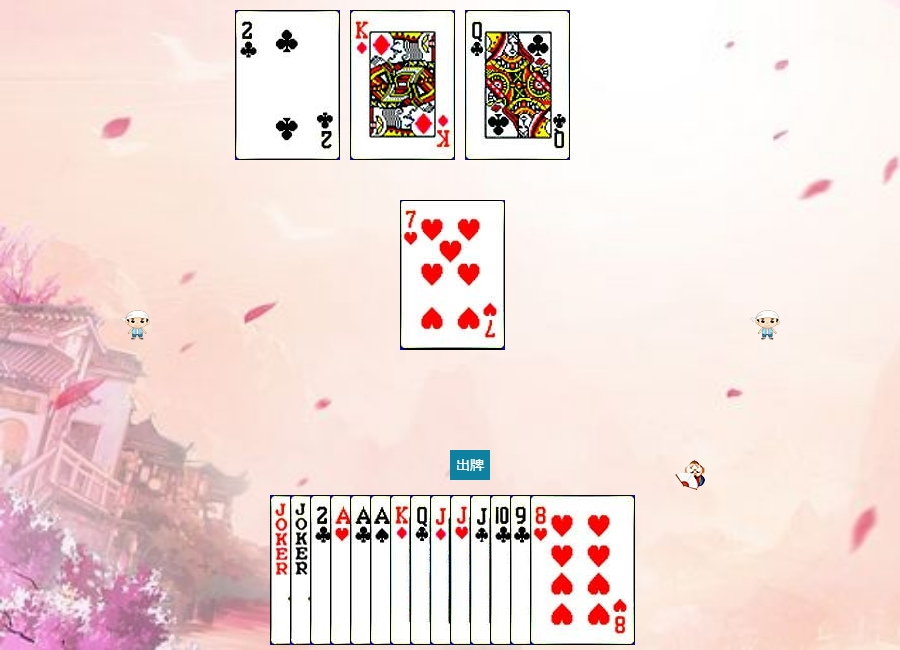10~2: (490, 495, 595, 645)
11~1: (430, 495, 535, 645)
11~2: (470, 495, 575, 645)
11~3: (450, 495, 555, 645)
12~2: (465, 10, 570, 160), (410, 495, 515, 645)
13~1: (350, 10, 455, 160), (390, 495, 495, 645)
14~2: (350, 495, 455, 645)
14~3: (330, 495, 435, 645)
14~4: (370, 495, 475, 645)
15~2: (235, 10, 340, 160), (310, 495, 415, 645)
17~3: (290, 495, 395, 645)
18~4: (270, 495, 375, 645)
7~3: (400, 200, 505, 350)
8~3: (530, 495, 635, 645)
9~2: (510, 495, 615, 645)
